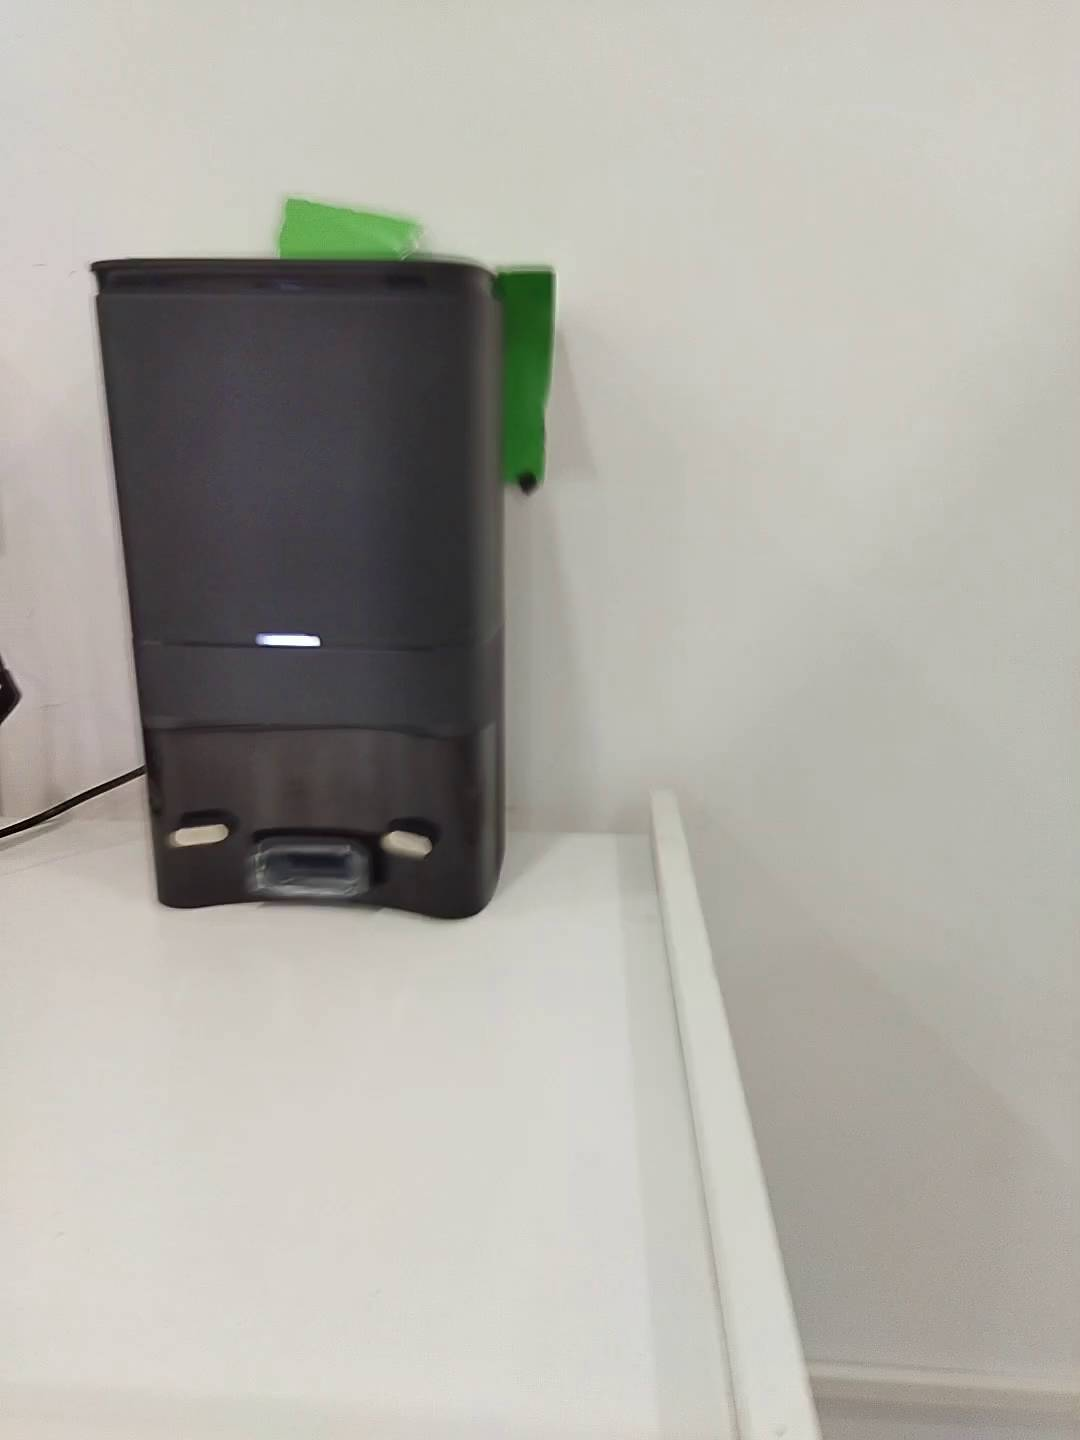dust collecting barrel: (83, 254, 511, 922)
